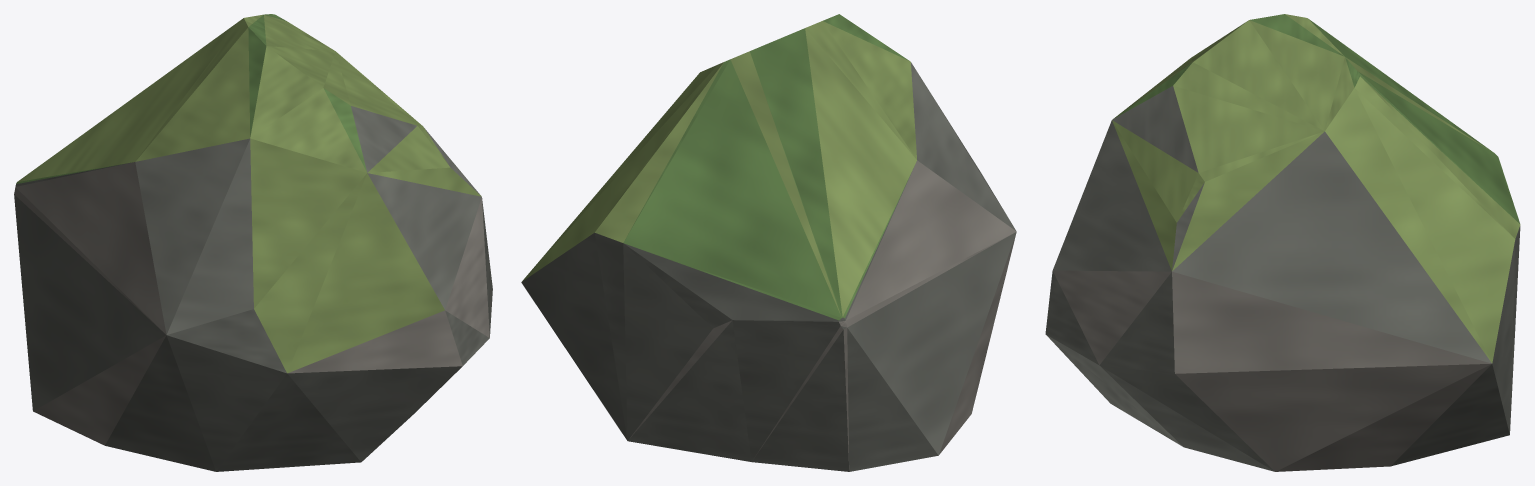
Rendered from rock_mossy_medium_03.fbx.
3 renders of one model, left to right at view 1: azimuth 30°, elevation 25°; view 2: azimuth 150°, elevation 25°; view 3: azimuth 270°, elevation 25°, orthographic. The views are drawn at different scales.
Visible parts, largest first — view 1: rock_mossy_medium_03; view 2: rock_mossy_medium_03; view 3: rock_mossy_medium_03.
Part boxes in pixels (bbox=[...]): rock_mossy_medium_03: bbox=[14, 14, 492, 471]; rock_mossy_medium_03: bbox=[521, 14, 1016, 471]; rock_mossy_medium_03: bbox=[1045, 14, 1520, 471].
Size of the model in its own units: 1.33 by 1.27 by 1.45.
